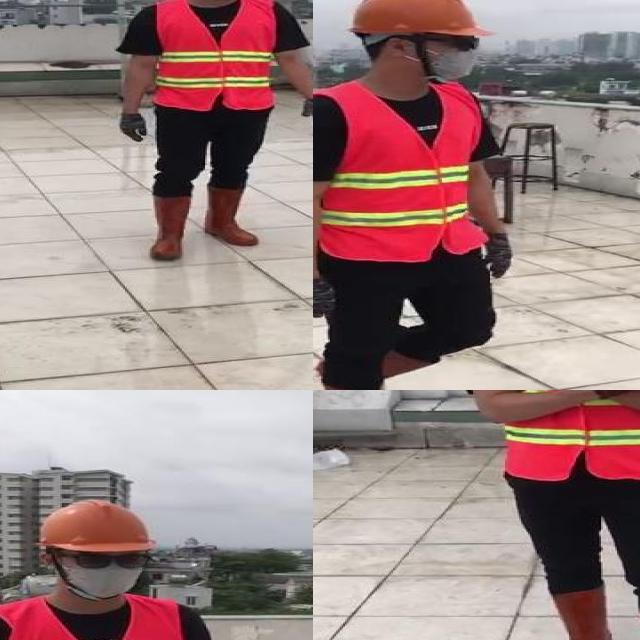boots: (542, 587, 613, 640), (203, 186, 264, 246), (148, 193, 194, 261)
face_mask: (59, 546, 149, 598), (422, 33, 492, 83)
glasses: (62, 548, 154, 572), (438, 32, 486, 56)
hand_glove: (479, 230, 515, 276), (313, 275, 340, 317), (118, 112, 148, 142), (299, 99, 313, 134)
head_helmet: (26, 496, 158, 556), (339, 0, 494, 45)
person: (313, 0, 530, 390), (105, 0, 313, 262), (468, 390, 640, 640), (0, 494, 247, 640)
vest: (319, 79, 486, 261), (490, 390, 640, 483), (151, 0, 276, 111), (0, 597, 186, 640)
